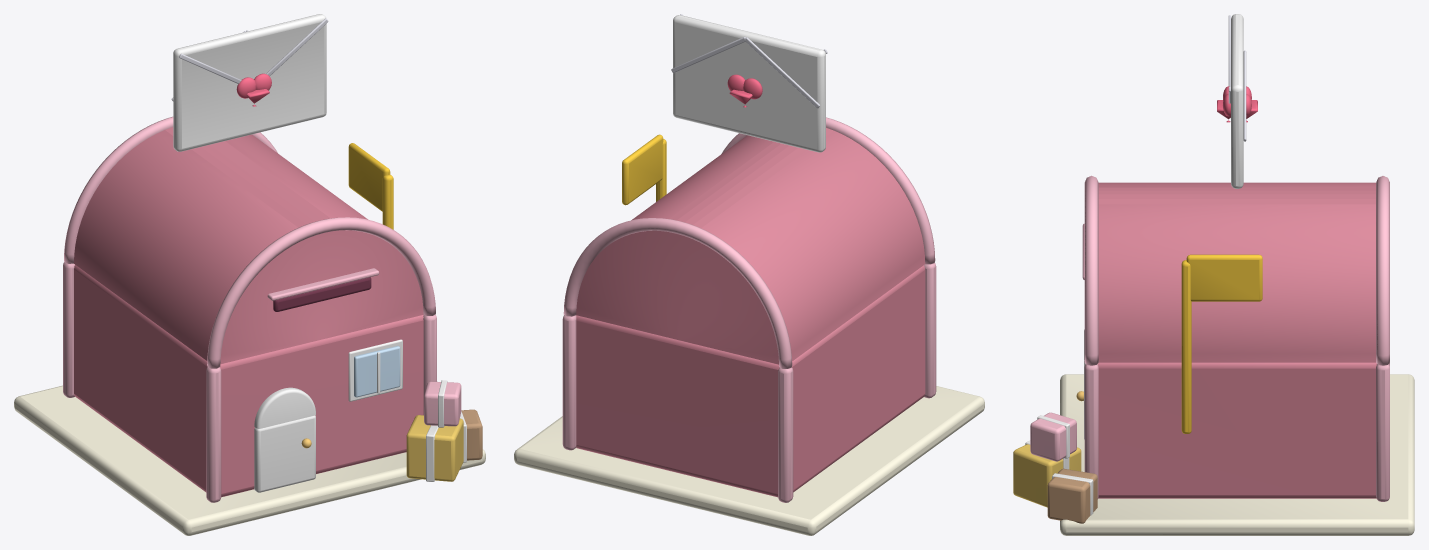
The model's file is postoffice.glb.
3 renders of one model, left to right at view 1: azimuth 30°, elevation 25°; view 2: azimuth 150°, elevation 25°; view 3: azimuth 270°, elevation 25°, orthographic.
Visible parts, largest first — view 1: roof, box, base, envelope, rim_1, door, parcel_0, rim_-1, rim_side_1_-1.0, window, flag_board, door_top (+8 smaller); view 2: roof, box, base, envelope, rim_-1, rim_1, rim_side_-1_-1.0, rim_side_-1_1.0, flag_board, rim_side_1_-1.0; view 3: roof, box, base, flag_board, rim_1, rim_-1, parcel_0, envelope, parcel_1, rim_side_-1_1.0, pole, parcel_2 (+1 smaller).
Boxes of the visible parts, left/top/right/bottom form: roof: left=74, top=127, right=423, bottom=364; box: left=74, top=264, right=423, bottom=497; base: left=14, top=385, right=485, bottom=535; envelope: left=173, top=14, right=326, bottom=151; rim_1: left=207, top=217, right=435, bottom=368; door: left=254, top=415, right=315, bottom=492; parcel_0: left=406, top=415, right=463, bottom=481; rim_-1: left=64, top=116, right=277, bottom=263; rim_side_1_-1.0: left=206, top=367, right=221, bottom=502; window: left=354, top=345, right=400, bottom=397; flag_board: left=348, top=143, right=390, bottom=211; door_top: left=254, top=387, right=315, bottom=428; roof: left=576, top=127, right=925, bottom=364; box: left=576, top=265, right=925, bottom=497; base: left=514, top=386, right=984, bottom=535; envelope: left=673, top=15, right=825, bottom=152; rim_-1: left=563, top=218, right=792, bottom=368; rim_1: left=721, top=117, right=935, bottom=264; rim_side_-1_-1.0: left=778, top=367, right=793, bottom=502; rim_side_-1_1.0: left=562, top=315, right=576, bottom=450; flag_board: left=622, top=134, right=663, bottom=205; rim_side_1_-1.0: left=924, top=263, right=936, bottom=398; roof: left=1098, top=182, right=1375, bottom=362; box: left=1098, top=362, right=1376, bottom=498; base: left=1060, top=374, right=1414, bottom=535; flag_board: left=1186, top=254, right=1262, bottom=301; rim_1: left=1084, top=175, right=1098, bottom=365; rim_-1: left=1376, top=176, right=1389, bottom=365; parcel_0: left=1013, top=444, right=1081, bottom=507; envelope: left=1231, top=14, right=1243, bottom=188; parcel_1: left=1047, top=468, right=1097, bottom=523; rim_side_-1_1.0: left=1376, top=364, right=1389, bottom=501; pole: left=1181, top=260, right=1191, bottom=433; parcel_2: left=1030, top=412, right=1076, bottom=461.
Bounding box in the file's own units: 2.8 × 3.6 × 3.17.
